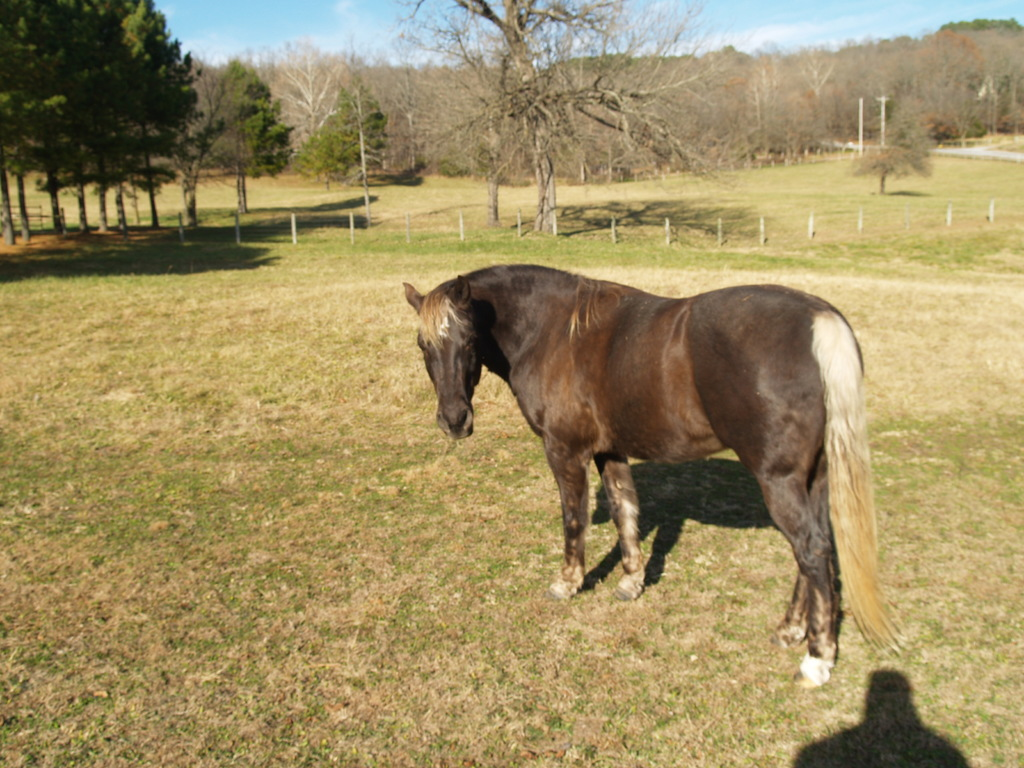horse: (400, 259, 907, 687)
